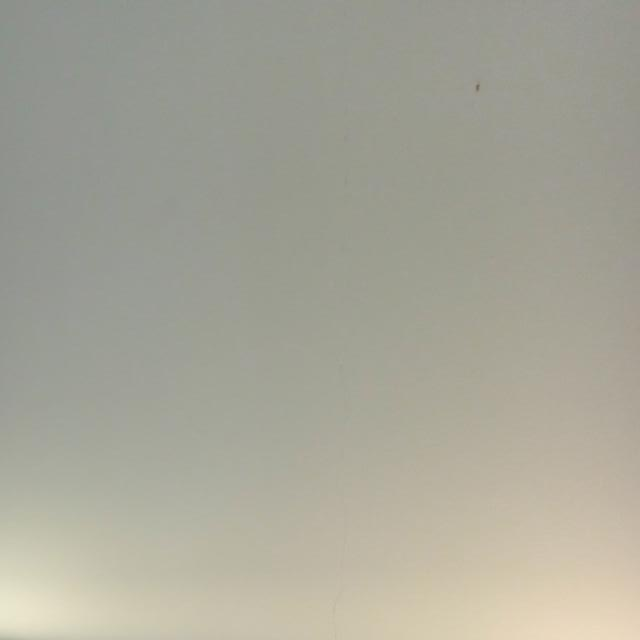fluorescent tube: (0, 627, 640, 640)
